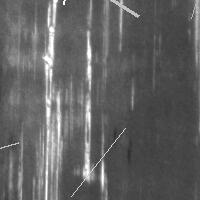scratches: (34, 1, 62, 198), (77, 28, 108, 187), (66, 123, 130, 200), (101, 0, 143, 21), (0, 138, 23, 167), (186, 0, 200, 23), (59, 0, 73, 9)
